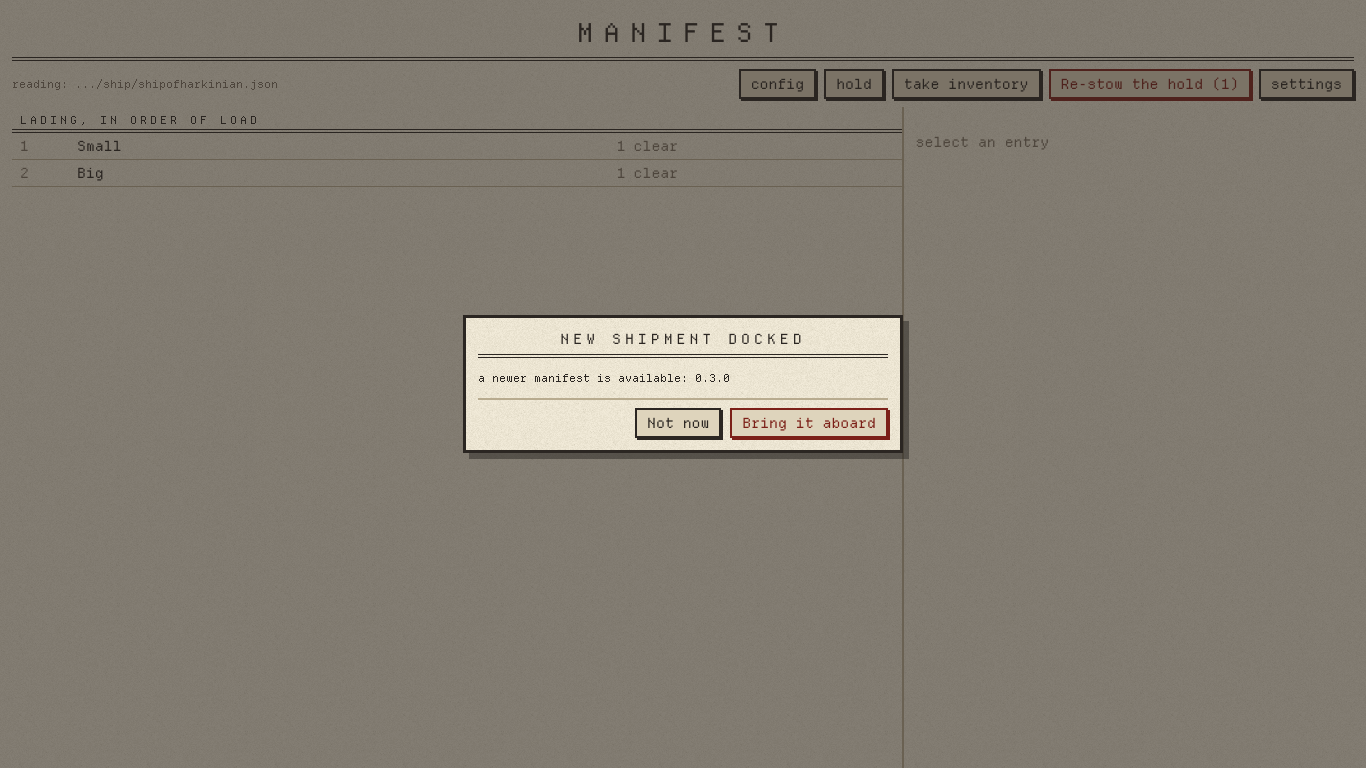
it: App › keeps the update modal open and shows the failure line when install rejects
Expected: the text "NEW SHIPMENT DOCKED" is shown, [560,330,806,348]
Click the button "Bring it aboard" at (809, 423), box [730,408,888,438]
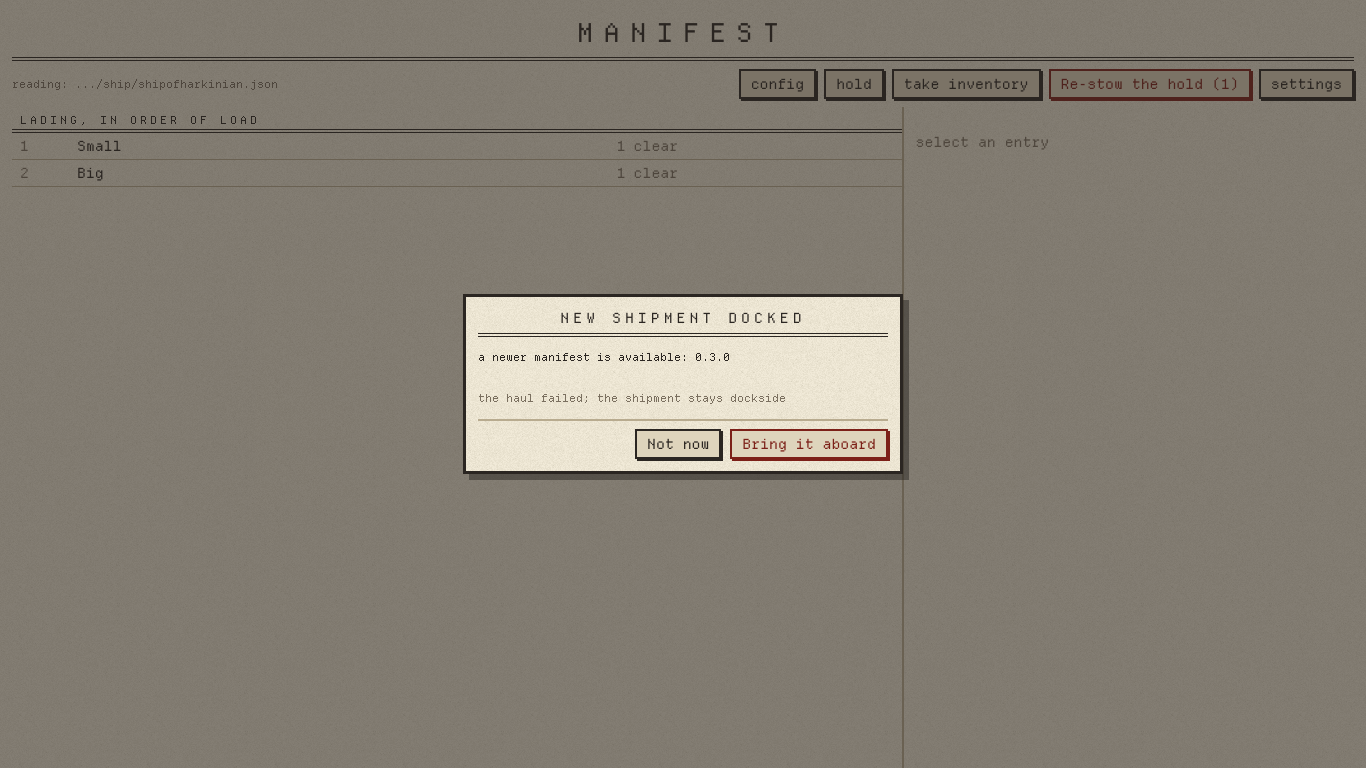
Expected: the text "NEW SHIPMENT DOCKED" is shown, [560,309,806,327]
Now the text "the haul failed; the shipment stays dockside" is shown, box [478,391,786,405]
